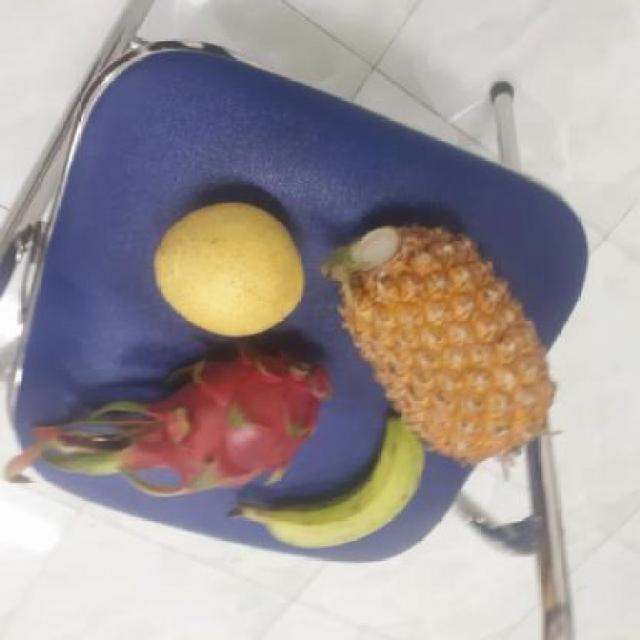banana: (255, 412, 430, 546)
dragon fruit: (134, 331, 338, 489)
pear: (165, 198, 306, 340)
pineapple: (332, 220, 556, 458)
